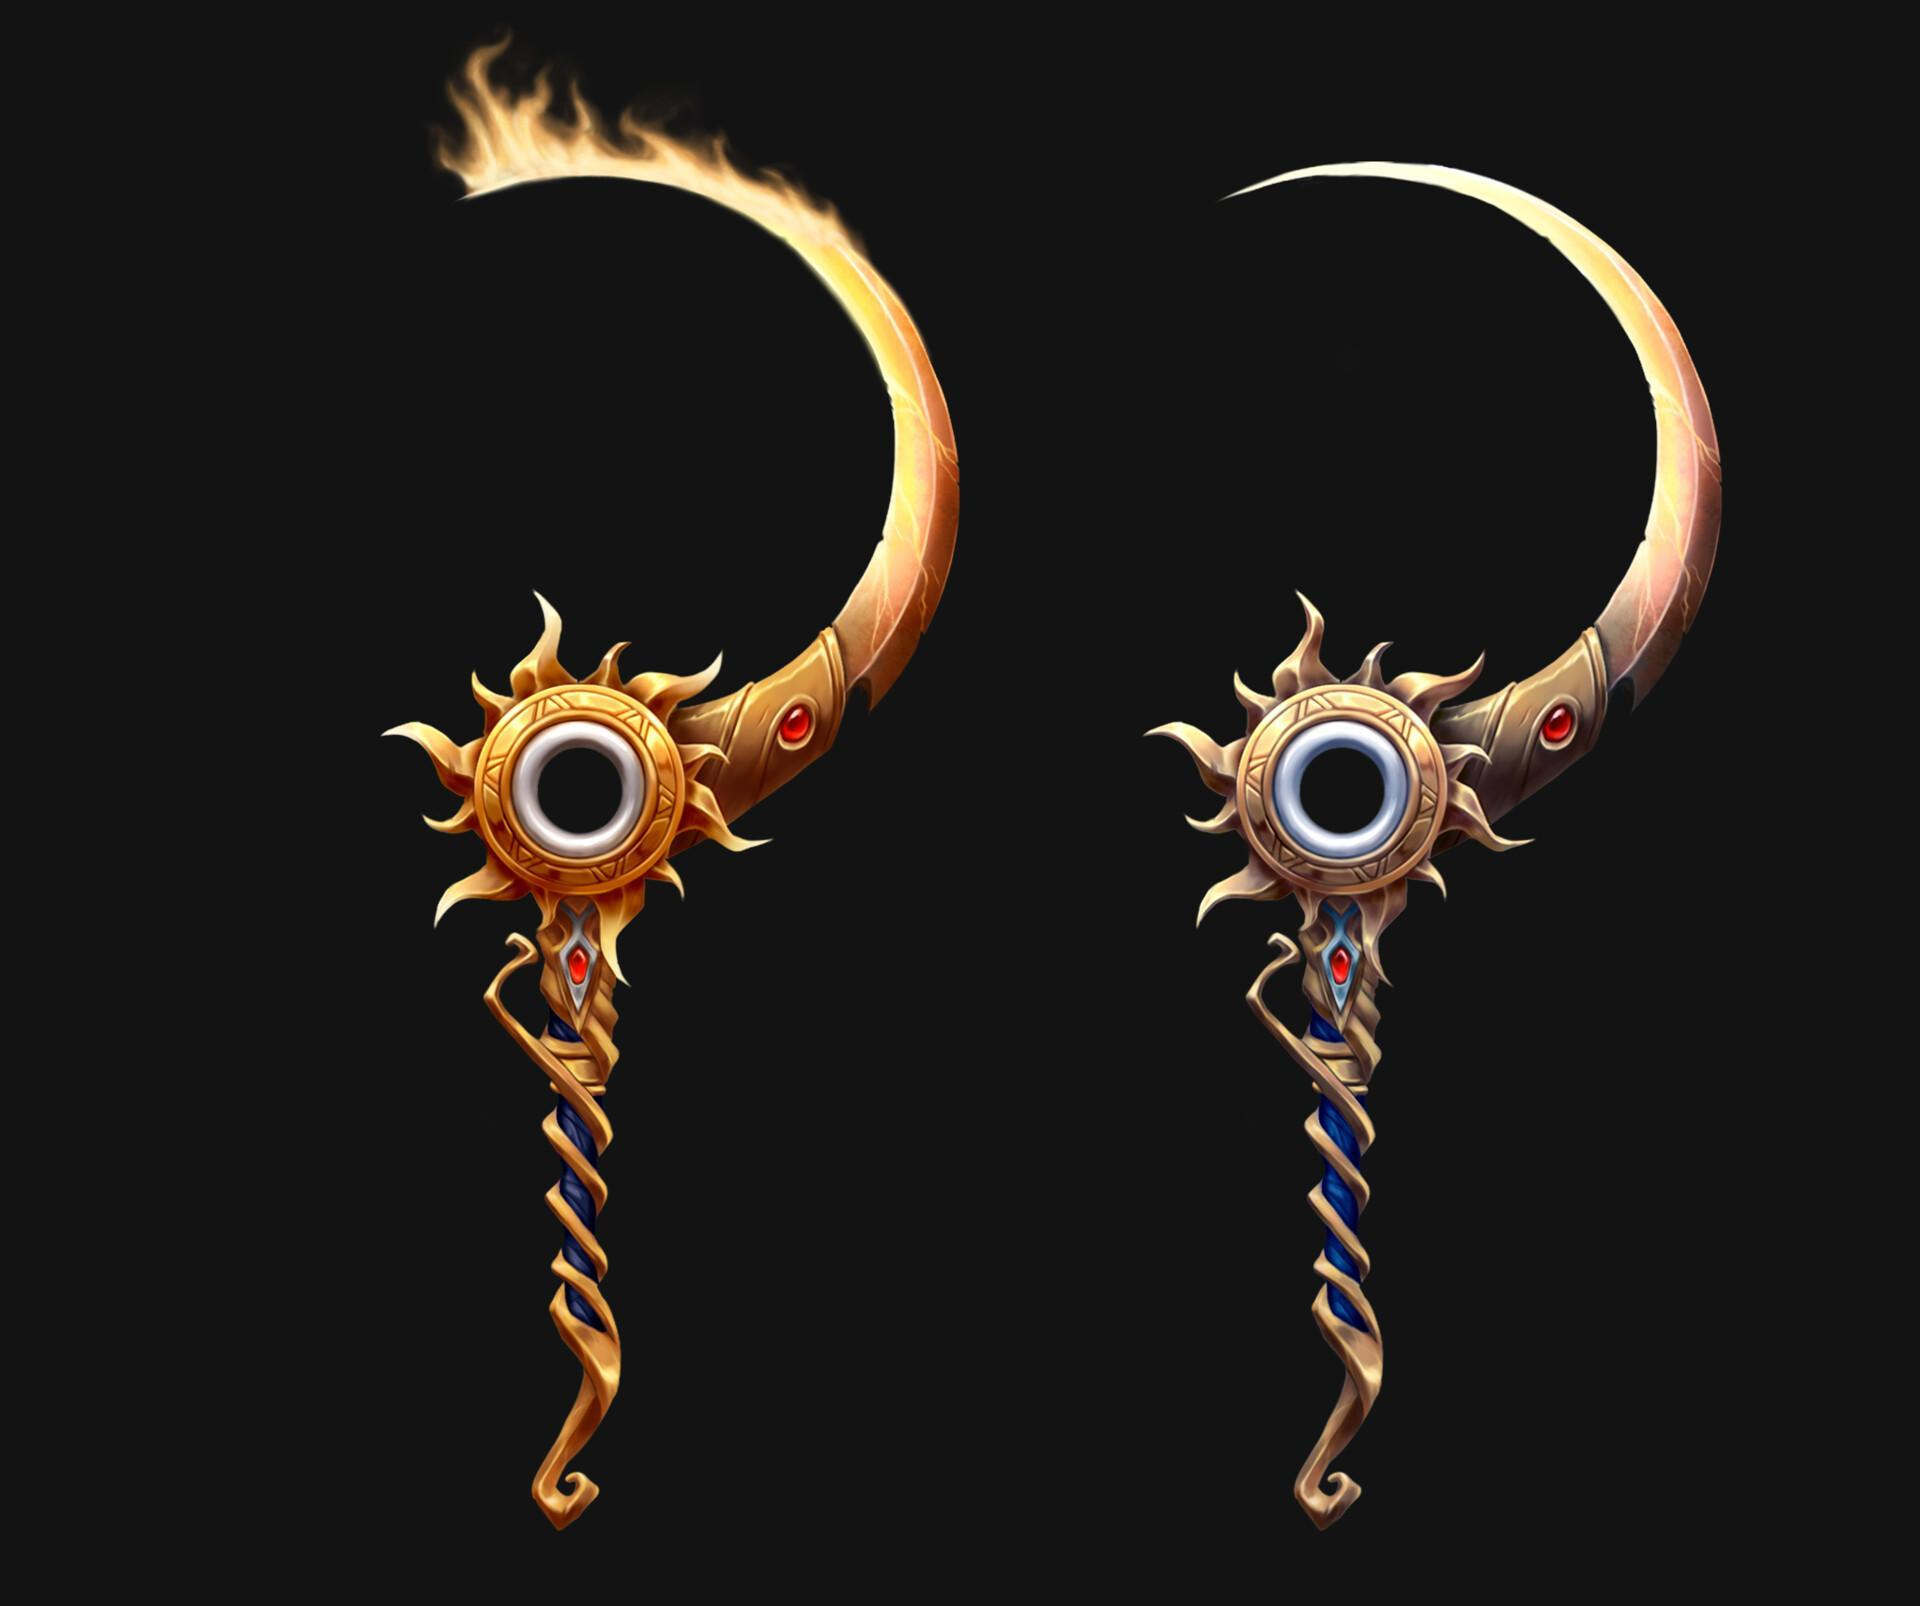foice: (397, 140, 958, 1478), (1180, 163, 1721, 1528)
